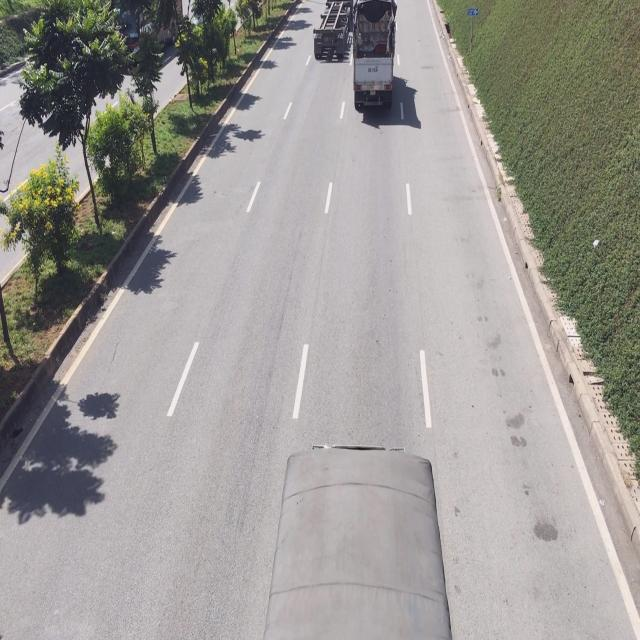truck: (352, 0, 396, 112), (312, 0, 354, 60)
